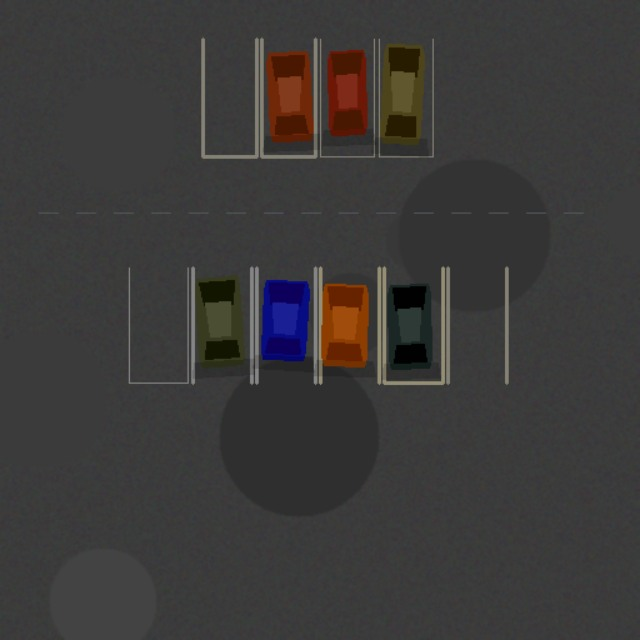space-empty: (447, 267, 506, 382), (129, 267, 187, 382), (202, 39, 256, 156)
space-occupied: (256, 267, 315, 382), (320, 267, 379, 382), (384, 267, 443, 382), (193, 267, 251, 382), (261, 39, 315, 156), (320, 39, 374, 156), (379, 39, 432, 156)
